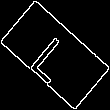L_NE: (28, 26, 82, 84)
